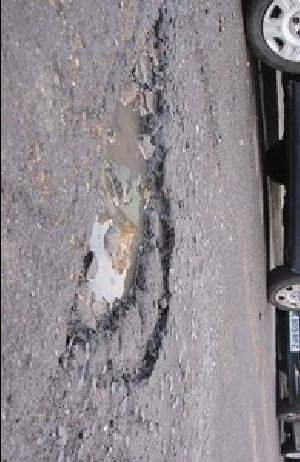pothole: (53, 7, 178, 386)
